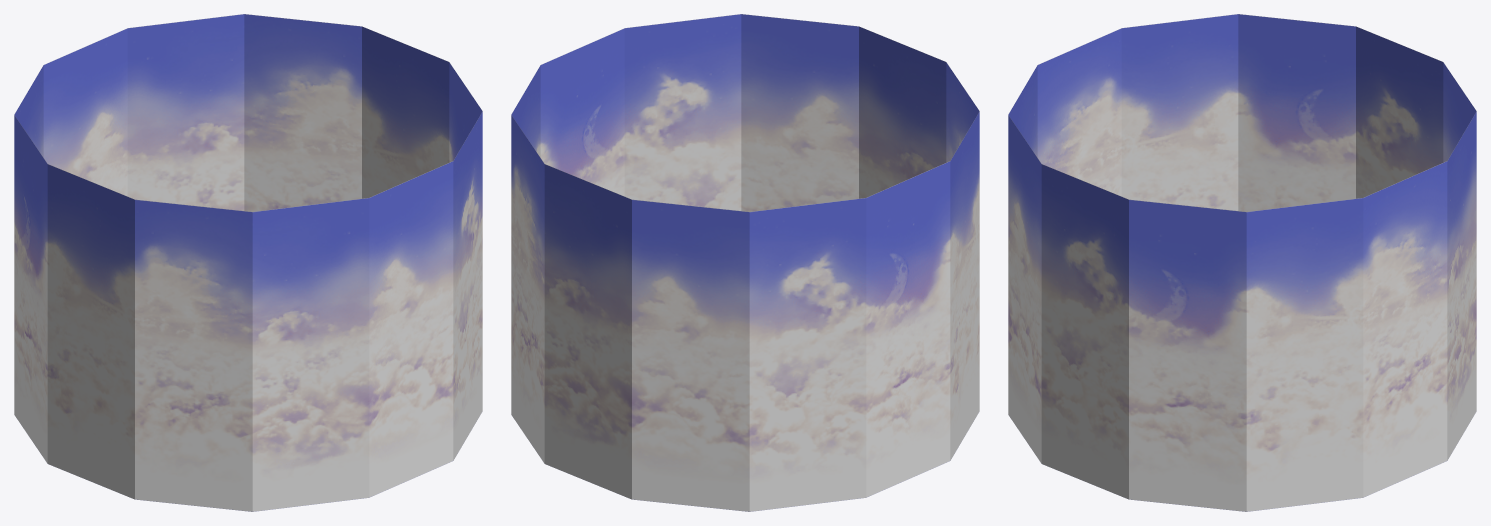
Rendered from wiz_wiz_2.glb.
The picture shows the model from 3 angles, left to right: view 1: azimuth 30°, elevation 25°; view 2: azimuth 150°, elevation 25°; view 3: azimuth 270°, elevation 25°; orthographic projection.
Visible parts, largest first — view 1: export.001; view 2: export.001; view 3: export.001.
Boxes of the visible parts, left/top/right/bottom form: export.001: left=14, top=14, right=482, bottom=511; export.001: left=511, top=14, right=979, bottom=511; export.001: left=1008, top=14, right=1476, bottom=511.
Size of the model in its own units: 1714 by 1211 by 1714.
61 materials, 61 textured.
